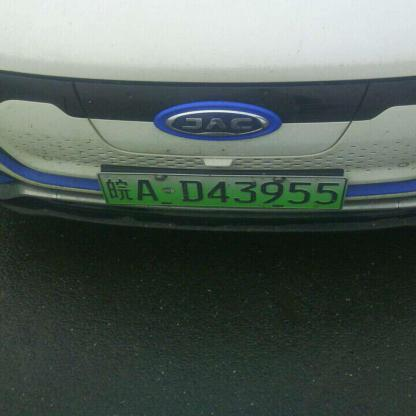lp: (98, 172, 346, 208)
